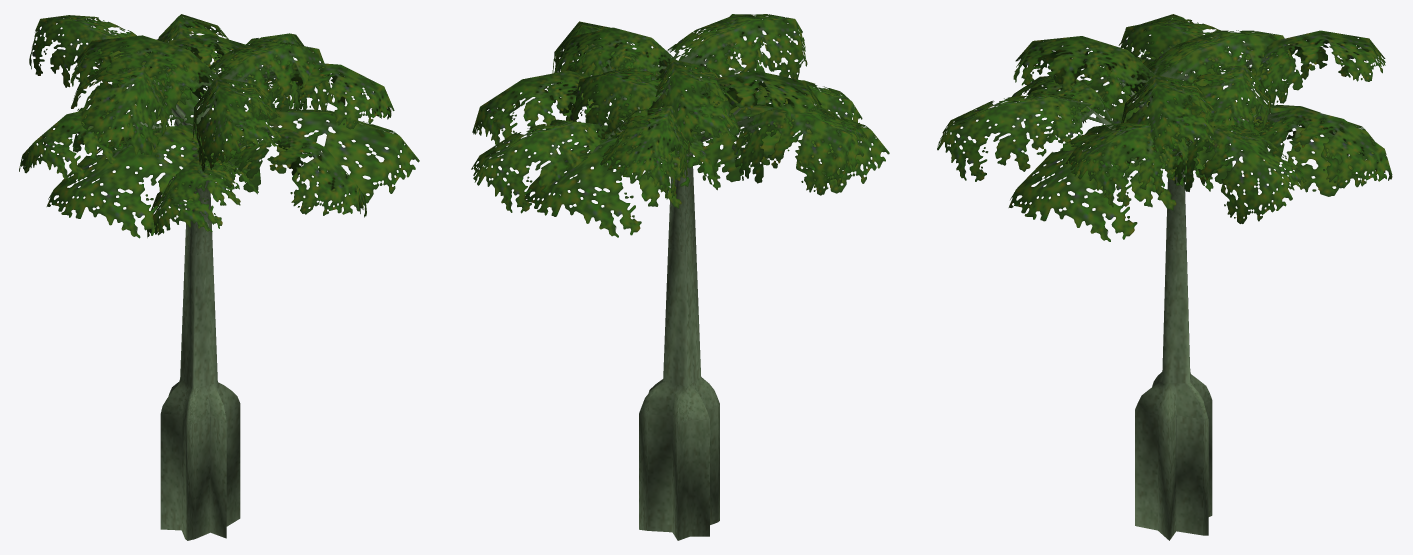
File: kapok_tree_2_3.dae
3 views of the same model, side by side, from view 1: azimuth 30°, elevation 25°; view 2: azimuth 150°, elevation 25°; view 3: azimuth 270°, elevation 25° (orthographic).
Visible parts, largest first — view 1: Plane.041; view 2: Plane.041; view 3: Plane.041.
Boxes of the visible parts, x1,y1,x2,y2 form: Plane.041: (19, 14, 419, 540); Plane.041: (471, 14, 889, 540); Plane.041: (937, 14, 1392, 540).
Bounding box in the file's own units: 0.8146 × 0.9172 × 1.02.
Materials: 1 (1 with a texture image).
